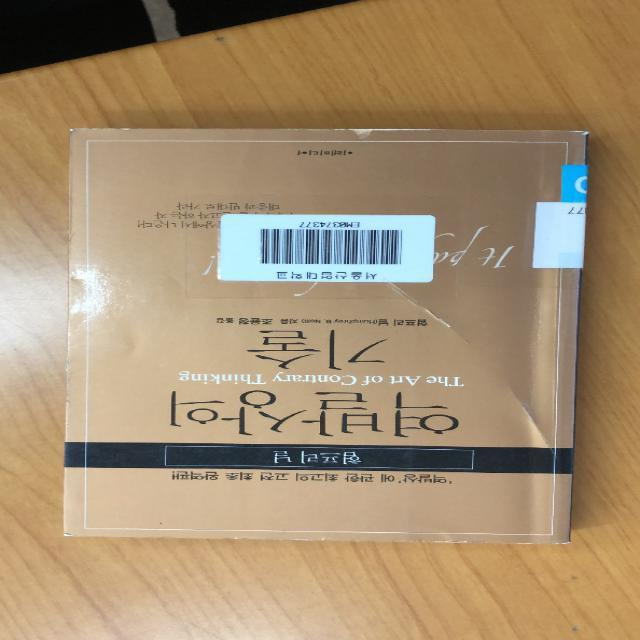Wornout: (267, 125, 443, 141), (395, 531, 492, 546), (278, 530, 366, 545), (504, 533, 577, 547), (64, 124, 138, 137), (546, 128, 595, 142), (55, 531, 82, 540), (224, 534, 249, 543)
